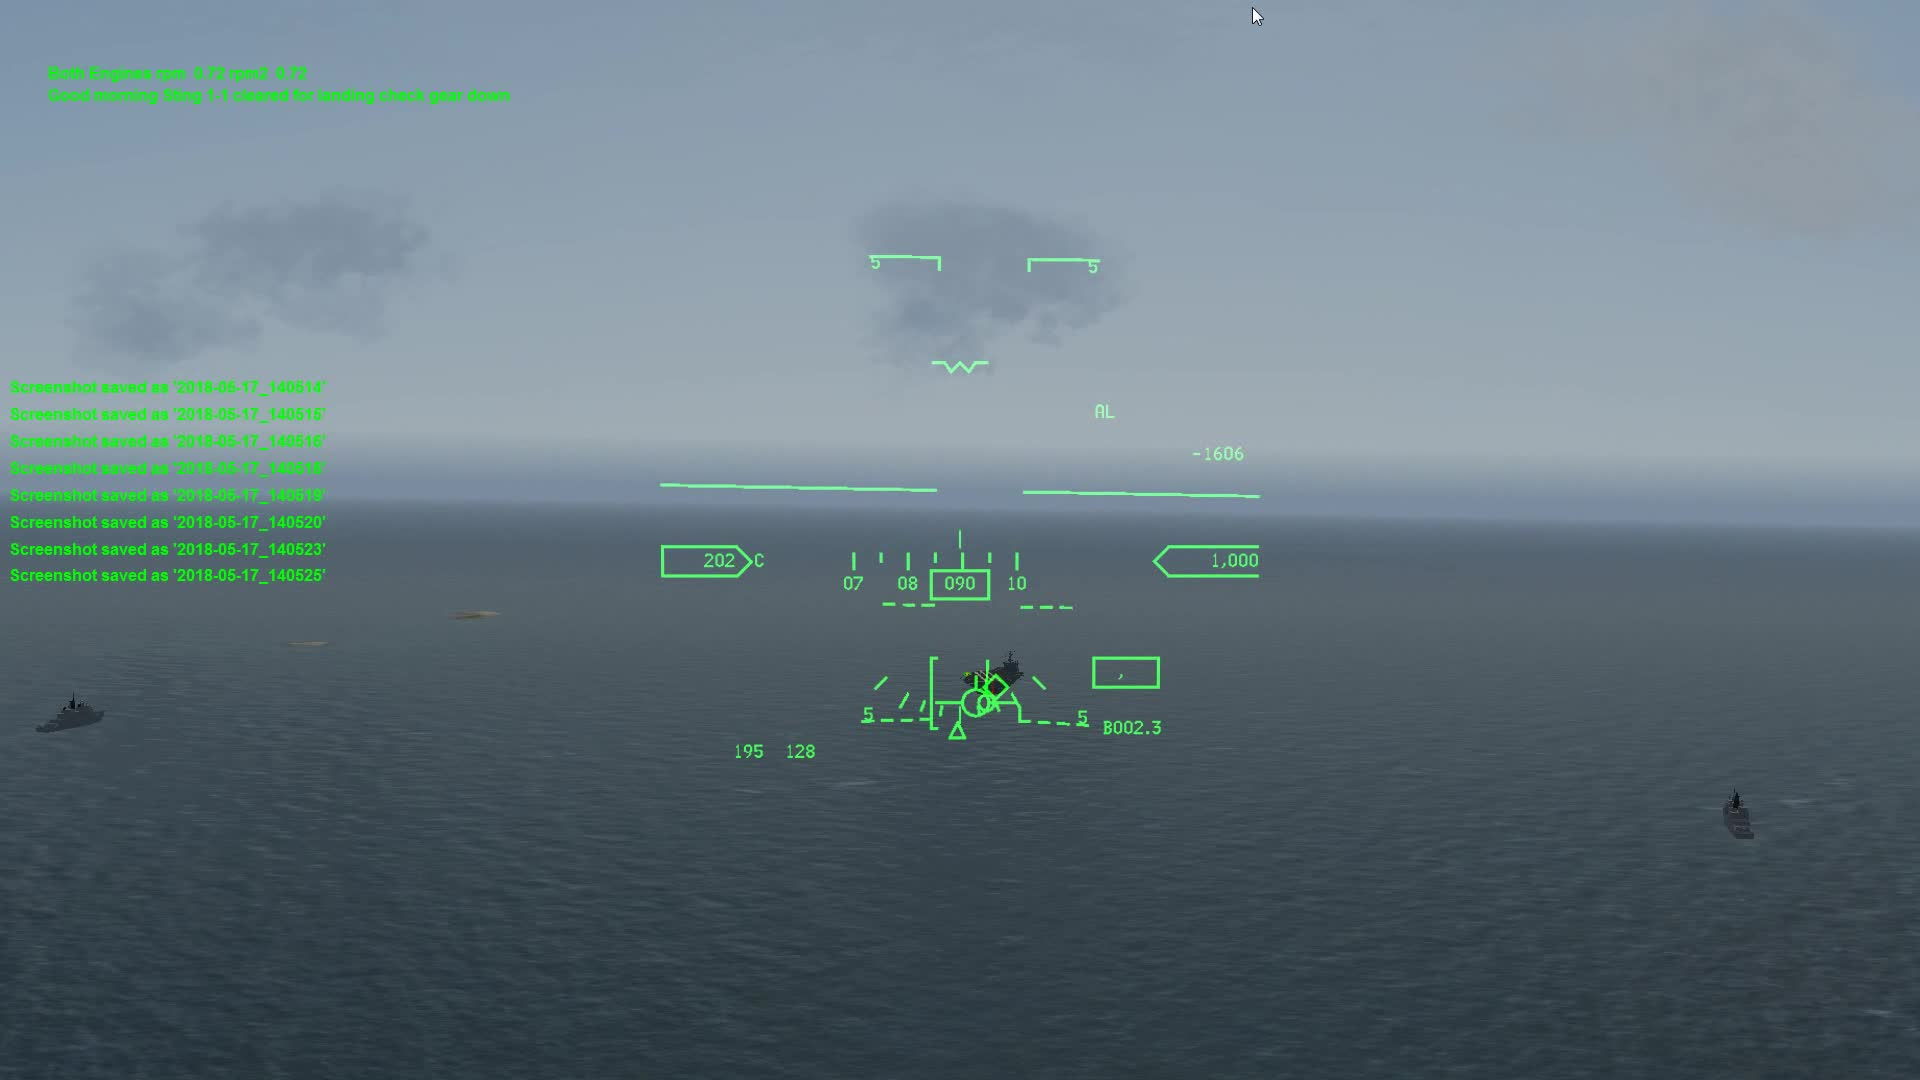speed vector: (938, 659, 1022, 721)
